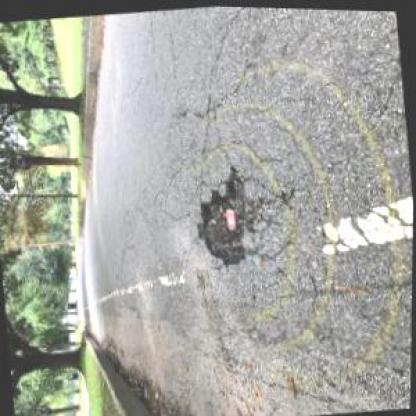pothole: (188, 161, 260, 270)
